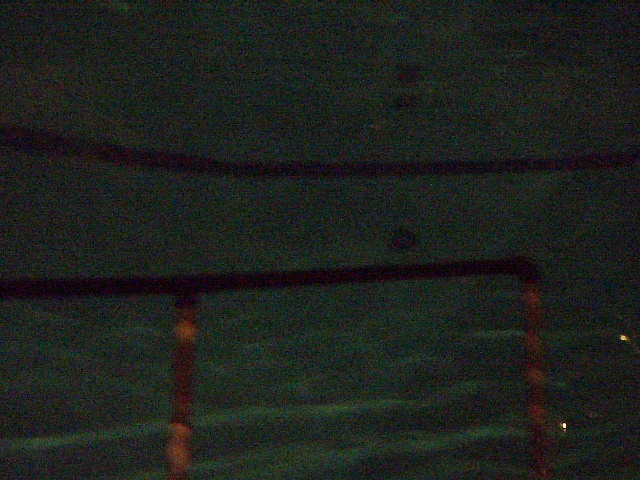Gate: (522, 278, 558, 478), (164, 301, 202, 480)
